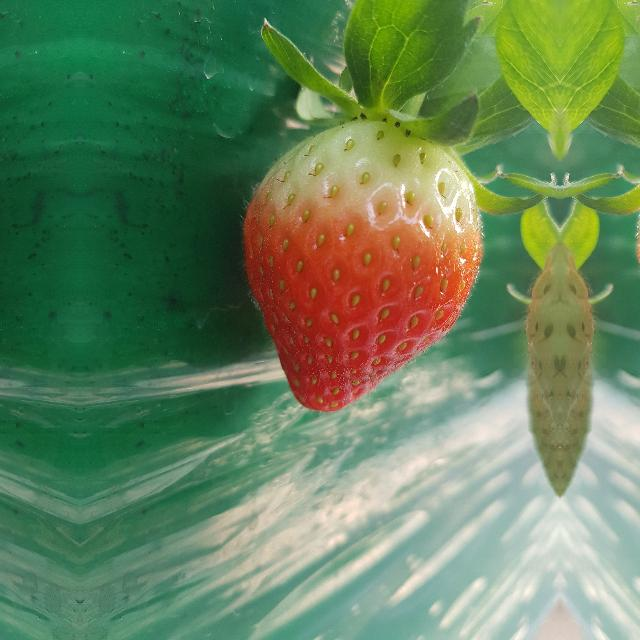Health_75: (238, 115, 480, 412)
